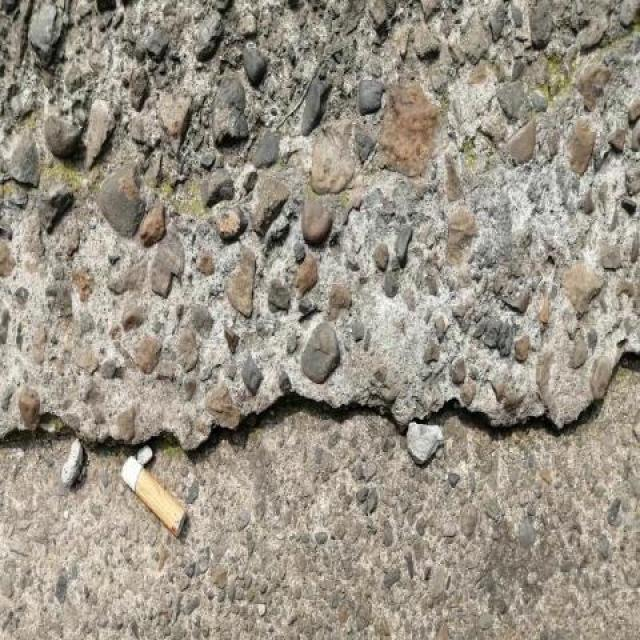non-organic waste: (117, 451, 192, 541)
